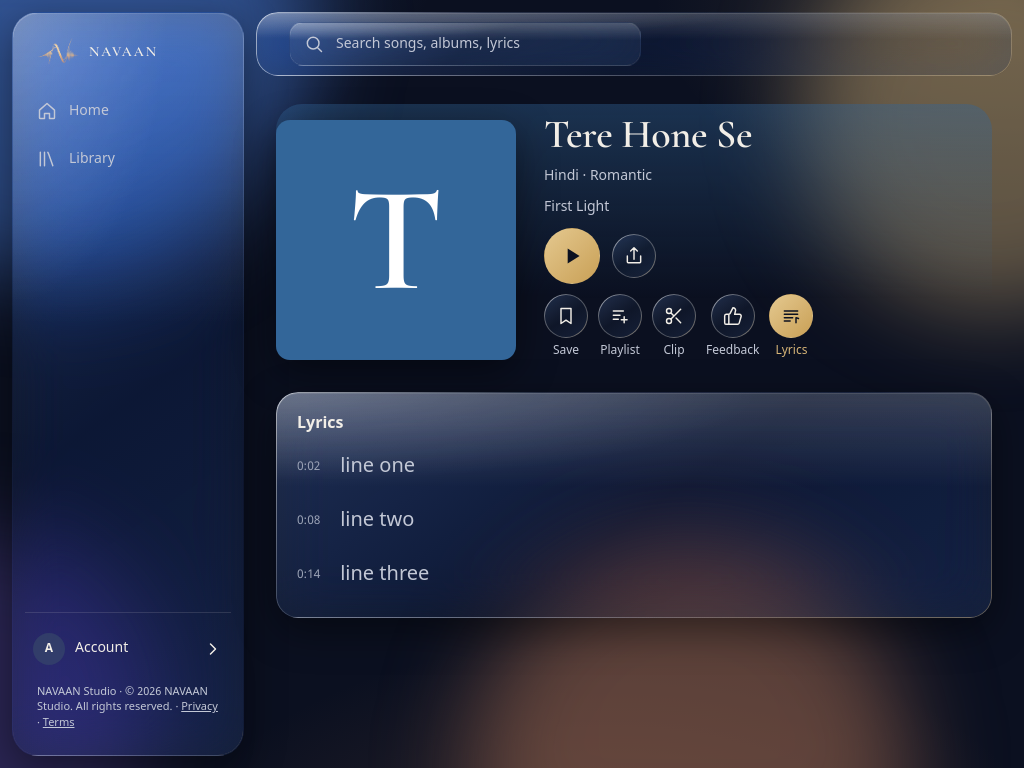
Test case: a song for a listener › keeps Save, Add to a playlist, Share a clip and What did you think? as a row of icons at the top, the playlist and the clip in sheets
Check: the button named "Save song" is shown, box [544, 294, 588, 338]
Check: the button named "Share a clip" is shown, box [652, 294, 696, 338]
Click the button named "Add to a playlist" at (620, 316), box [598, 294, 642, 338]
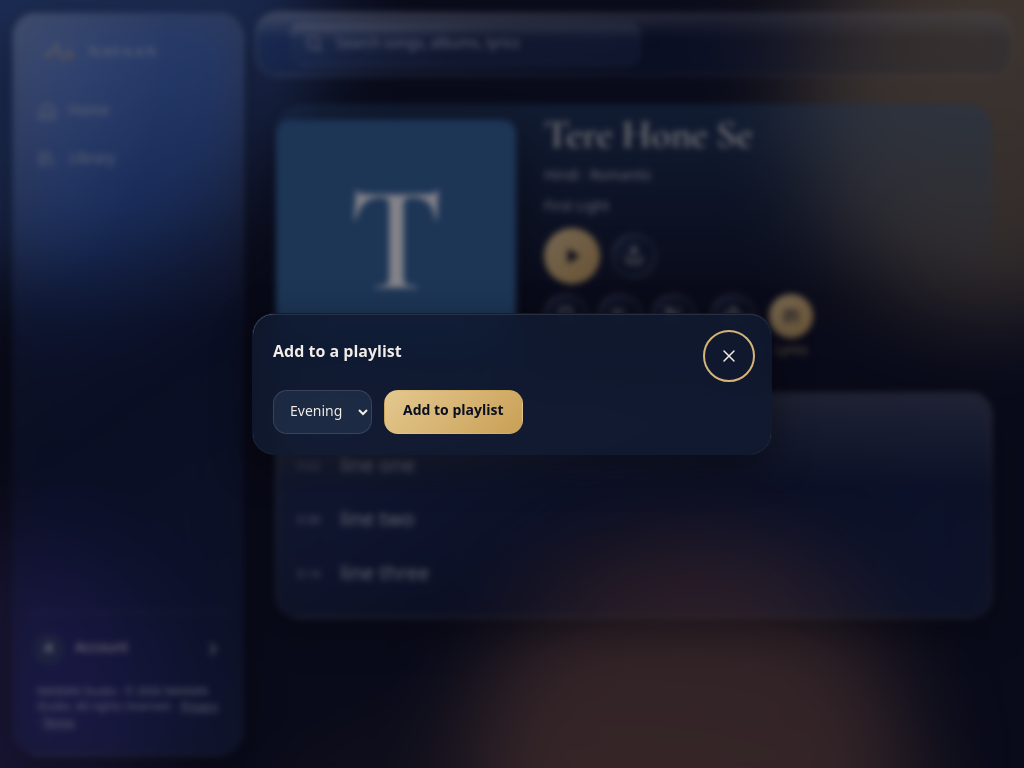
Click the button "Add to playlist" at (453, 412), box [384, 390, 522, 434]
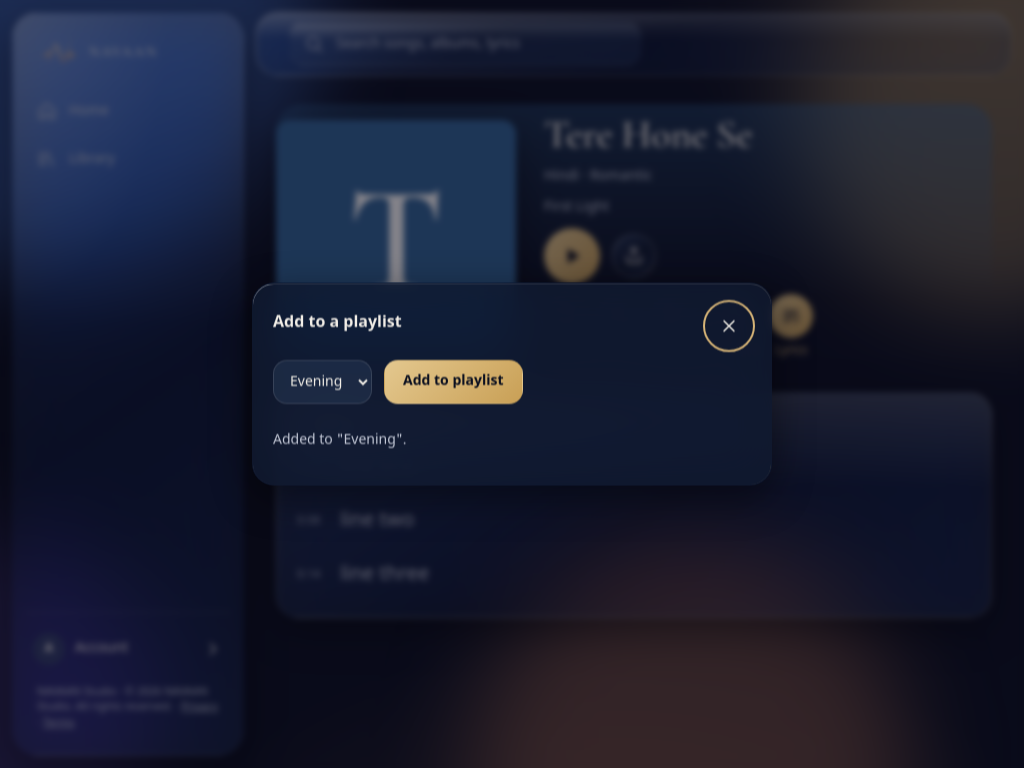
Check: the text "Added to \"Evening\"." is shown, box [273, 430, 407, 450]
Click the button named "Close" at (729, 326), box [707, 304, 751, 348]
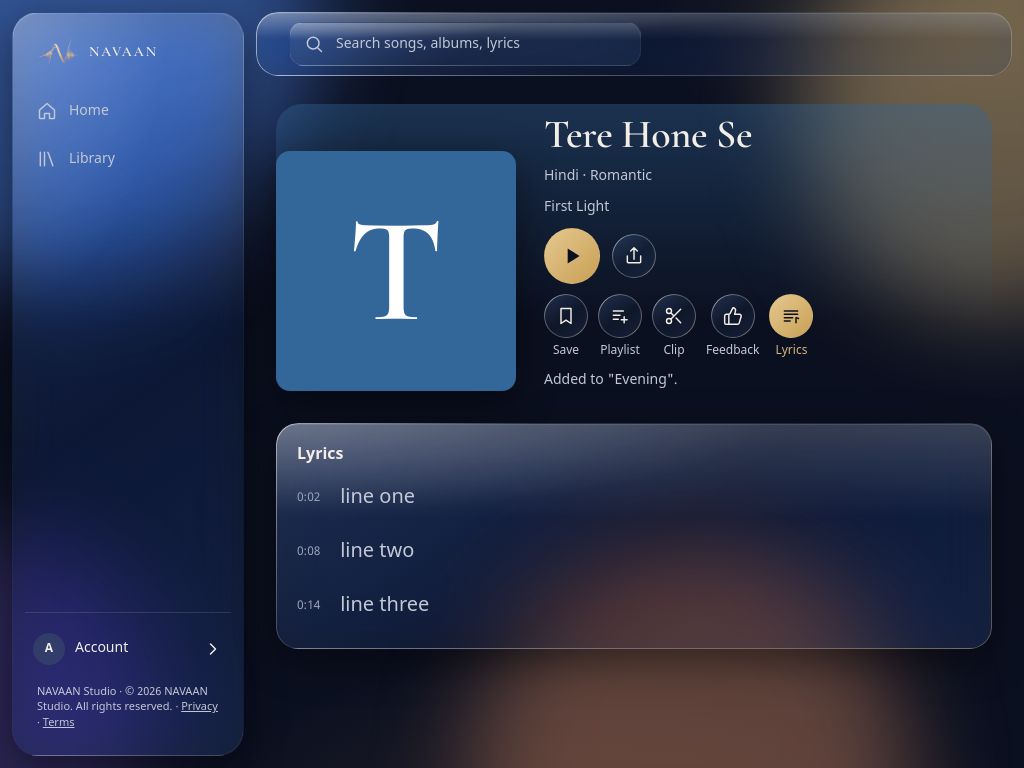
Check: the dialog is gone
Click the button named "Share a clip" at (674, 316), box [652, 294, 696, 338]
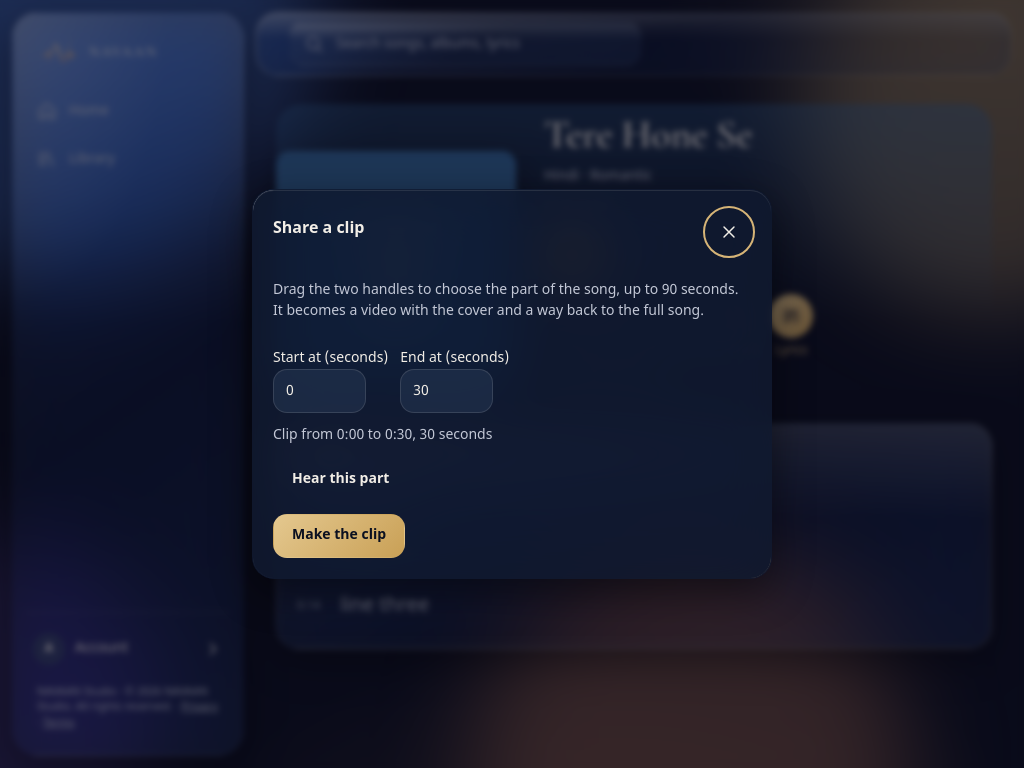
Check: the button "Make the clip" is shown, box [273, 514, 405, 558]
Check: the number field labelled "End at (seconds)" is shown, box [400, 369, 493, 413]
